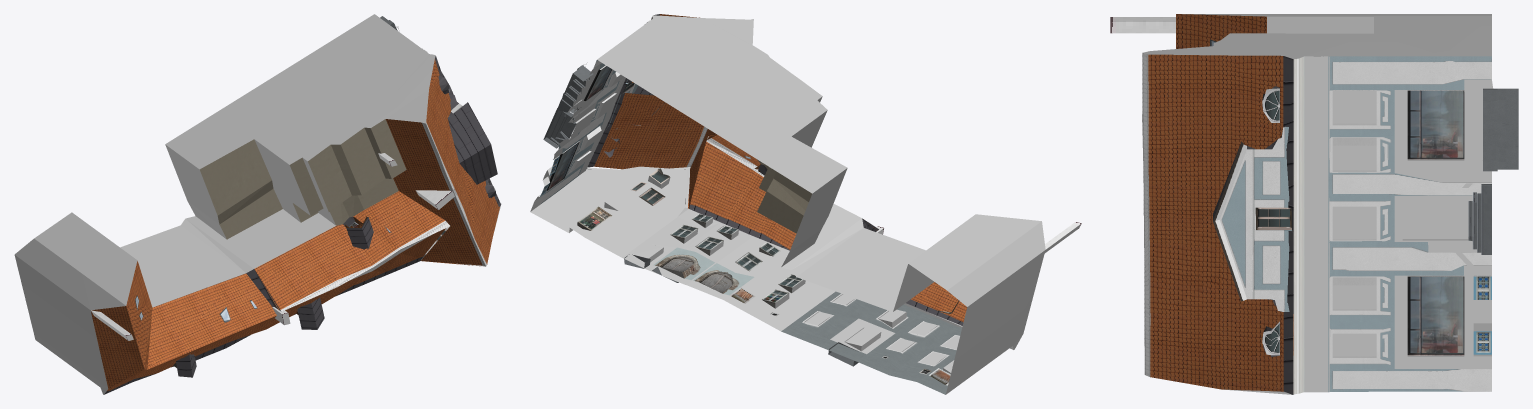
File: Dunkri_2-origo.obj
3 views of the same model, side by side, from view 1: azimuth 30°, elevation 25°; view 2: azimuth 150°, elevation 25°; view 3: azimuth 270°, elevation 25° (orthographic). The views are drawn at different scales.
Parts seen in each view (by area): view 1: Dunkri_2; view 2: Dunkri_2; view 3: Dunkri_2.
Part boxes in pixels (box(x1,y1,x2,y2)): Dunkri_2: box(14, 14, 501, 394); Dunkri_2: box(530, 14, 1081, 394); Dunkri_2: box(1110, 14, 1518, 394).
Size of the model in its own units: 39.69 by 22 by 19.09.
